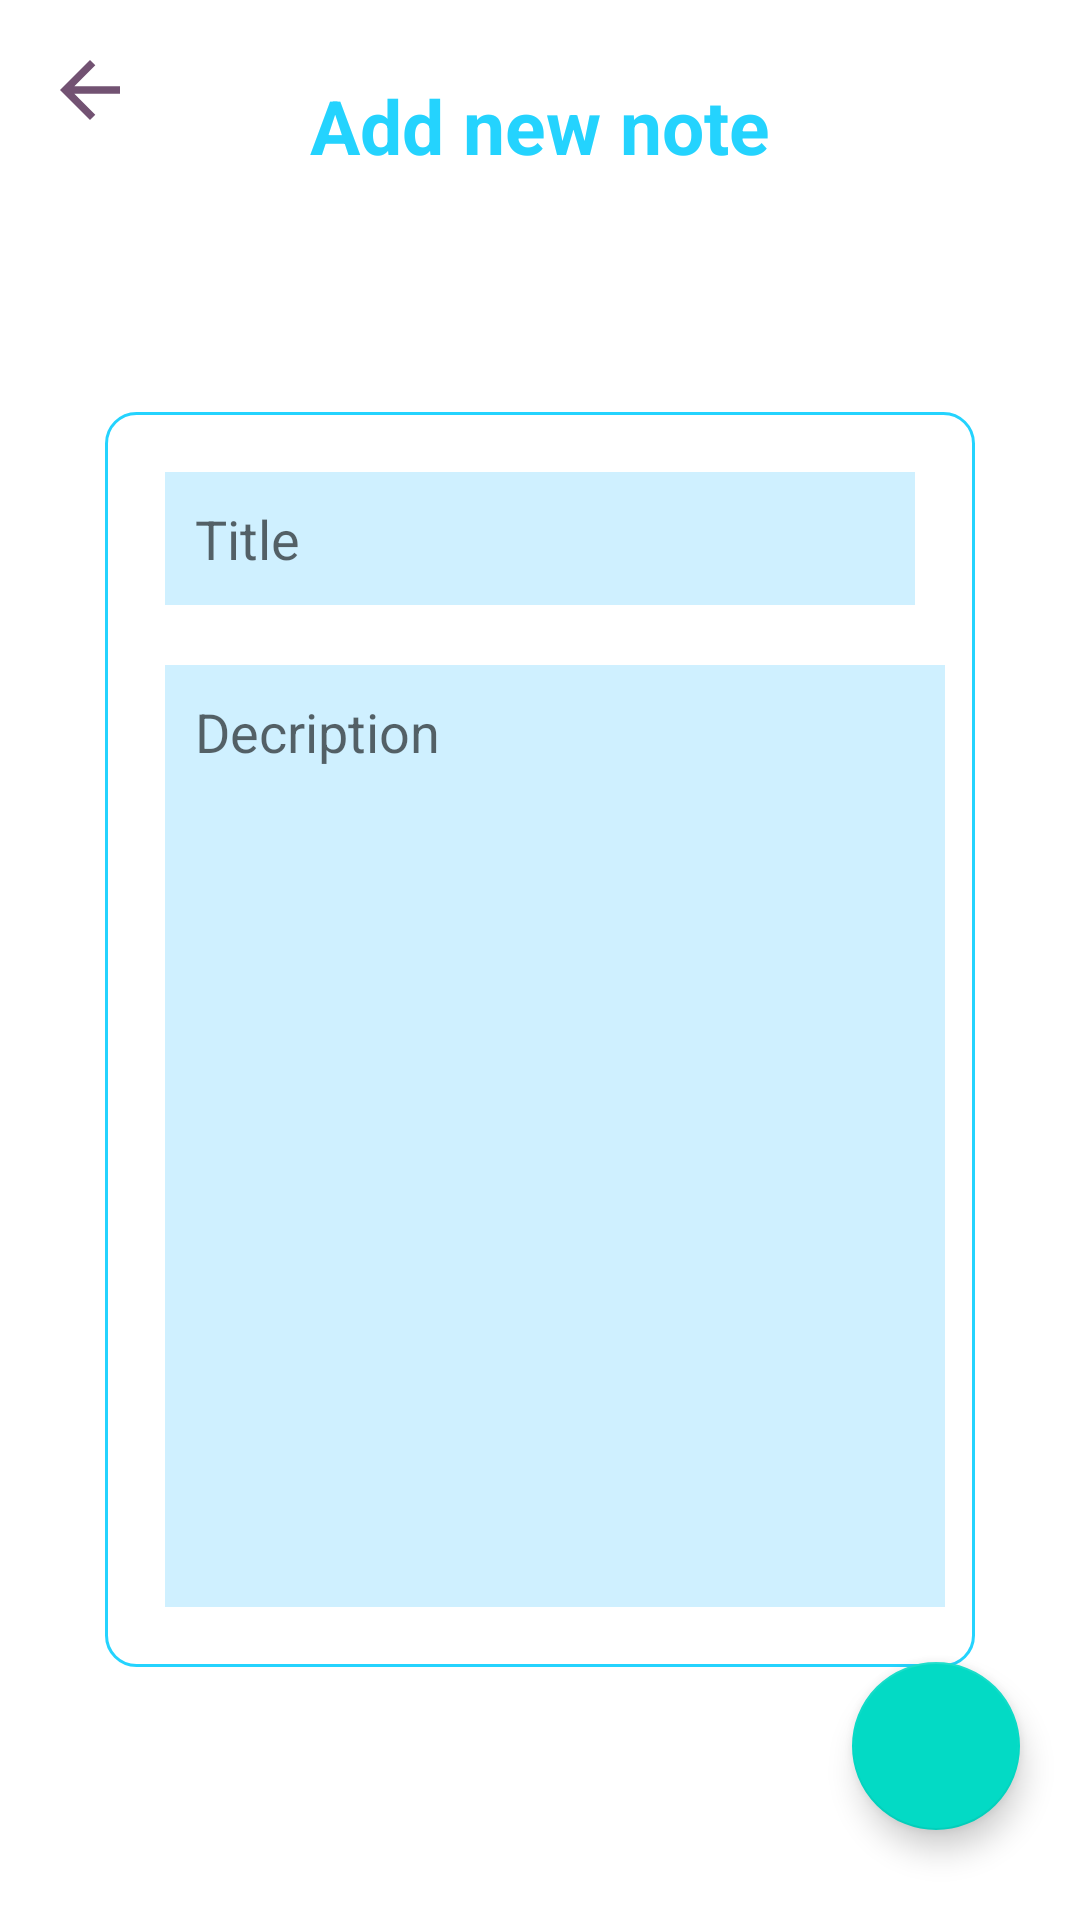

Named icons in this screenshot (1080px×1920px) and their bounding boxes, (x1, y1, x2, y2):
back: (60, 60, 120, 120)
